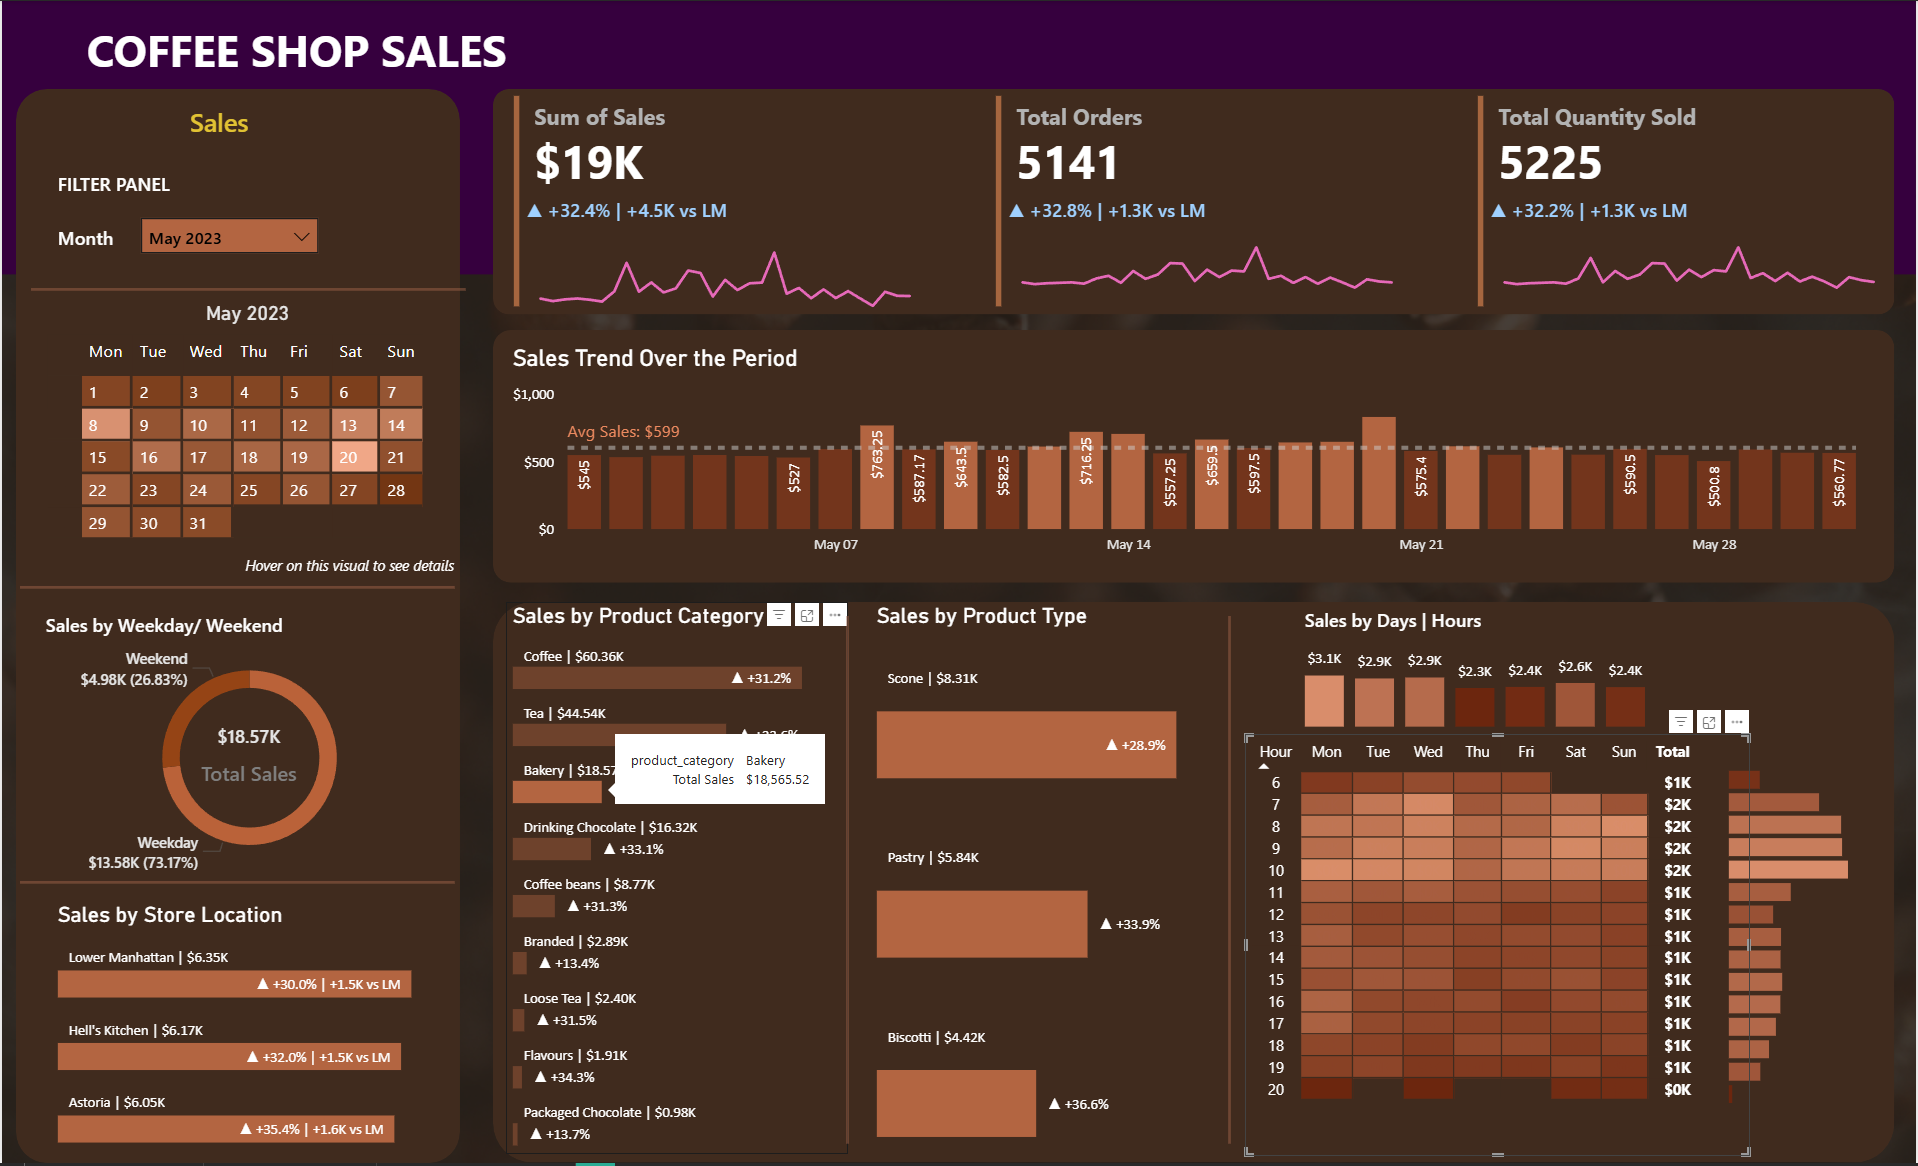

The page's visual inventory and layout, read from the dashboard file:
{"tool":"powerbi","page":{"name":"Coffee Shop Sales Report","canvas":[1400,850],"ordinal":0},"visuals":[{"type":"shape","box":[0,0,1400,200],"z":0},{"type":"shape","box":[10.5,64.4,324.7,785.7],"z":1000},{"type":"shape","box":[358.9,64.7,1025.1,164.9],"z":2000},{"type":"textbox","box":[57.4,8,328.4,56.7],"z":3000},{"type":"cardVisual","fields":{"Data":["Sum(Transactions.Sales)"]},"box":[369.1,64.7,300,164.9],"z":4000,"group":"g1"},{"type":"cardVisual","fields":{"Data":["Transactions.Total Orders"]},"box":[721.8,64.7,300,164.9],"z":4000,"group":"g2"},{"type":"cardVisual","fields":{"Data":["Transactions.Total Quantity Sold"]},"box":[1074.5,64.7,300,164.9],"z":4000,"group":"g3"},{"type":"slicer","fields":{"Values":["Date Table.Month Year"]},"box":[96.5,153.4,139.9,39.7],"z":4000},{"type":"group","id":"g1","title":"Group 1","box":[369.1,64.7,309.5,164.9],"z":5000},{"type":"group","id":"g2","title":"Group 1","box":[721.8,64.7,309.5,164.9],"z":6000},{"type":"lineChart","fields":{"Y":["Transactions.Total Sales"],"Category":["Date Table.Date.Variation.Date Hierarchy.Year","Date Table.Date.Variation.Date Hierarchy.Quarter","Date Table.Date.Variation.Date Hierarchy.Month","Date Table.Date.Variation.Date Hierarchy.Day"]},"box":[378.5,144.6,300,85],"z":6000,"group":"g1"},{"type":"lineChart","fields":{"Category":["Date Table.Date.Variation.Date Hierarchy.Year","Date Table.Date.Variation.Date Hierarchy.Quarter","Date Table.Date.Variation.Date Hierarchy.Month","Date Table.Date.Variation.Date Hierarchy.Day"],"Y":["Transactions.Total Orders"]},"box":[731.2,144.6,300,85],"z":6000,"group":"g2"},{"type":"lineChart","fields":{"Category":["Date Table.Date.Variation.Date Hierarchy.Year","Date Table.Date.Variation.Date Hierarchy.Quarter","Date Table.Date.Variation.Date Hierarchy.Month","Date Table.Date.Variation.Date Hierarchy.Day"],"Y":["Transactions.Total Quantity Sold"]},"box":[1083.9,144.6,300,85],"z":6000,"group":"g3"},{"type":"group","id":"g3","title":"Group 1","box":[1074.5,64.7,309.5,164.9],"z":7000},{"type":"pivotTable","fields":{"Rows":["Date Table.Week Number"],"Columns":["Date Table.Day Name"],"Values":["Min(Date Table.Day Number)"]},"box":[28.3,239,305,190],"z":8000},{"type":"card","fields":{"Values":["Min(Date Table.Month Year)"]},"box":[137.3,211.4,84.3,35.6],"z":9000},{"type":"card","fields":{"Values":["Transactions.Foot Note"]},"box":[166.4,401,176.5,24],"z":10000},{"type":"shape","box":[13.5,417.5,318,22.4],"z":11000},{"type":"shape","box":[21.1,199.8,318.2,22.5],"z":12000},{"type":"donutChart","title":"Sales by Weekday/ Weekend","fields":{"Category":["Date Table.Weekday/ Weekend"],"Y":["Transactions.Total Sales"]},"box":[26.9,447.5,308,194.7],"z":13000},{"type":"card","fields":{"Values":["Transactions.Total Sales"]},"box":[125,523.1,111.2,53.8],"z":14000},{"type":"shape","box":[13.5,633.8,318,22.4],"z":15000},{"type":"clusteredBarChart","title":"Sales by Store Location","fields":{"Category":["Transactions.store_location"],"Y":["Transactions.Placeholder","Transactions.Total Sales"]},"box":[35.6,658.2,290.6,184.5],"z":16000},{"type":"shape","box":[359.2,240.9,1025.1,184.8],"z":17000},{"type":"columnChart","title":"Sales Trend Over the Period","fields":{"Category":["Transactions.transaction_date"],"Y":["Transactions.Total Sales"]},"box":[368.9,250.7,997.4,162.4],"z":18000},{"type":"shape","box":[359.2,440,1025.1,410],"z":19000},{"type":"clusteredBarChart","title":"Sales by Product Category","fields":{"Category":["Transactions.product_category"],"Y":["Transactions.Placeholder","Transactions.Total Sales"]},"box":[368.9,440,249.9,403.3],"z":20000},{"type":"shape","box":[602.4,449.7,32.9,386.1],"z":21000},{"type":"clusteredBarChart","title":"Sales by Product Type","fields":{"Y":["Transactions.Placeholder","Transactions.Total Sales"],"Category":["Transactions.product_type"]},"box":[635.3,440,249.9,403.3],"z":22000},{"type":"shape","box":[881.5,449.7,32.9,386.1],"z":23000},{"type":"pivotTable","fields":{"Rows":["Transactions.Hour"],"Values":["Transactions.Total Sales"],"Columns":["Date Table.Day Name"]},"box":[909.1,536.5,369.6,308.3],"z":24000},{"type":"barChart","fields":{"Category":["Transactions.Hour"],"Y":["Transactions.Total Sales"]},"box":[1257.8,550,116.7,261.1],"z":25000},{"type":"columnChart","title":"Sales by Days | Hours","fields":{"Y":["Transactions.Total Sales"],"Category":["Date Table.Day Name"]},"box":[948,443.7,259.6,92.8],"z":26000},{"type":"textbox","box":[35.9,159.4,60.6,27.7],"z":27000},{"type":"textbox","box":[35.9,119.7,96.5,27.7],"z":28000},{"type":"textbox","box":[132.4,71.1,77.8,38.9],"z":29000}]}

Visuals, with their boxes in screenshot pixels (x1, y1, x2, y2), scaled from the page's 1400x850 canvas onto the 1918x1166 screenshot:
shape: crop(0, 0, 1917, 274)
shape: crop(14, 88, 459, 1165)
shape: crop(492, 89, 1896, 315)
textbox: crop(79, 11, 529, 89)
cardVisual - Sum(Transactions.Sales): crop(506, 89, 917, 315)
cardVisual - Transactions.Total Orders: crop(989, 89, 1400, 315)
cardVisual - Transactions.Total Quantity Sold: crop(1472, 89, 1883, 315)
slicer - Date Table.Month Year: crop(132, 210, 324, 265)
"Group 1" group: crop(506, 89, 930, 315)
"Group 1" group: crop(989, 89, 1413, 315)
lineChart - Transactions.Total Sales x Date Table.Date.Variation.Date Hierarchy.Year: crop(519, 198, 930, 315)
lineChart - Date Table.Date.Variation.Date Hierarchy.Year x Date Table.Date.Variation.Date Hierarchy.Quarter: crop(1002, 198, 1413, 315)
lineChart - Date Table.Date.Variation.Date Hierarchy.Year x Date Table.Date.Variation.Date Hierarchy.Quarter: crop(1485, 198, 1896, 315)
"Group 1" group: crop(1472, 89, 1896, 315)
pivotTable - Date Table.Week Number x Date Table.Day Name: crop(39, 328, 457, 588)
card - Min(Date Table.Month Year): crop(188, 290, 304, 339)
card - Transactions.Foot Note: crop(228, 550, 470, 583)
shape: crop(18, 573, 454, 603)
shape: crop(29, 274, 465, 305)
"Sales by Weekday/ Weekend" donutChart: crop(37, 614, 459, 881)
card - Transactions.Total Sales: crop(171, 718, 324, 791)
shape: crop(18, 869, 454, 900)
"Sales by Store Location" clusteredBarChart: crop(49, 903, 447, 1156)
shape: crop(492, 330, 1896, 584)
"Sales Trend Over the Period" columnChart: crop(505, 344, 1872, 567)
shape: crop(492, 604, 1896, 1165)
"Sales by Product Category" clusteredBarChart: crop(505, 604, 848, 1157)
shape: crop(825, 617, 870, 1147)
"Sales by Product Type" clusteredBarChart: crop(870, 604, 1213, 1157)
shape: crop(1208, 617, 1253, 1147)
pivotTable - Transactions.Hour x Transactions.Total Sales: crop(1245, 736, 1752, 1159)
barChart - Transactions.Hour x Transactions.Total Sales: crop(1723, 754, 1883, 1113)
"Sales by Days | Hours" columnChart: crop(1299, 609, 1654, 736)
textbox: crop(49, 219, 132, 257)
textbox: crop(49, 164, 181, 202)
textbox: crop(181, 98, 288, 151)
